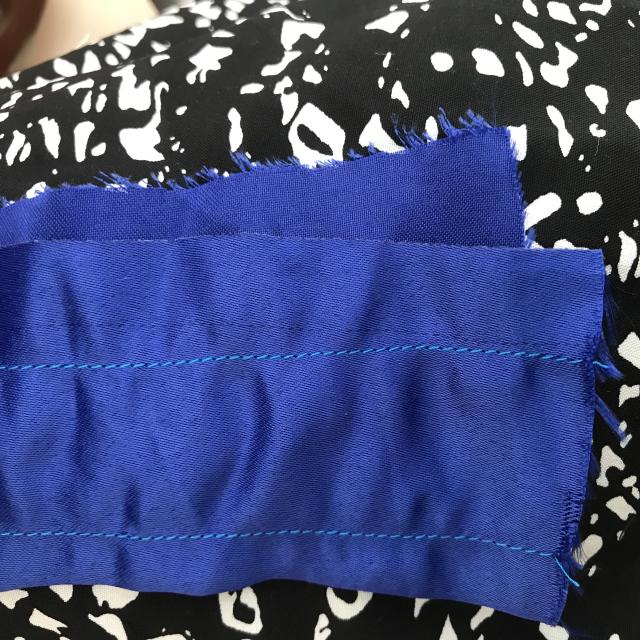good: (42, 349, 175, 380), (75, 526, 217, 553), (448, 334, 560, 364), (394, 528, 504, 550), (257, 522, 366, 544)
